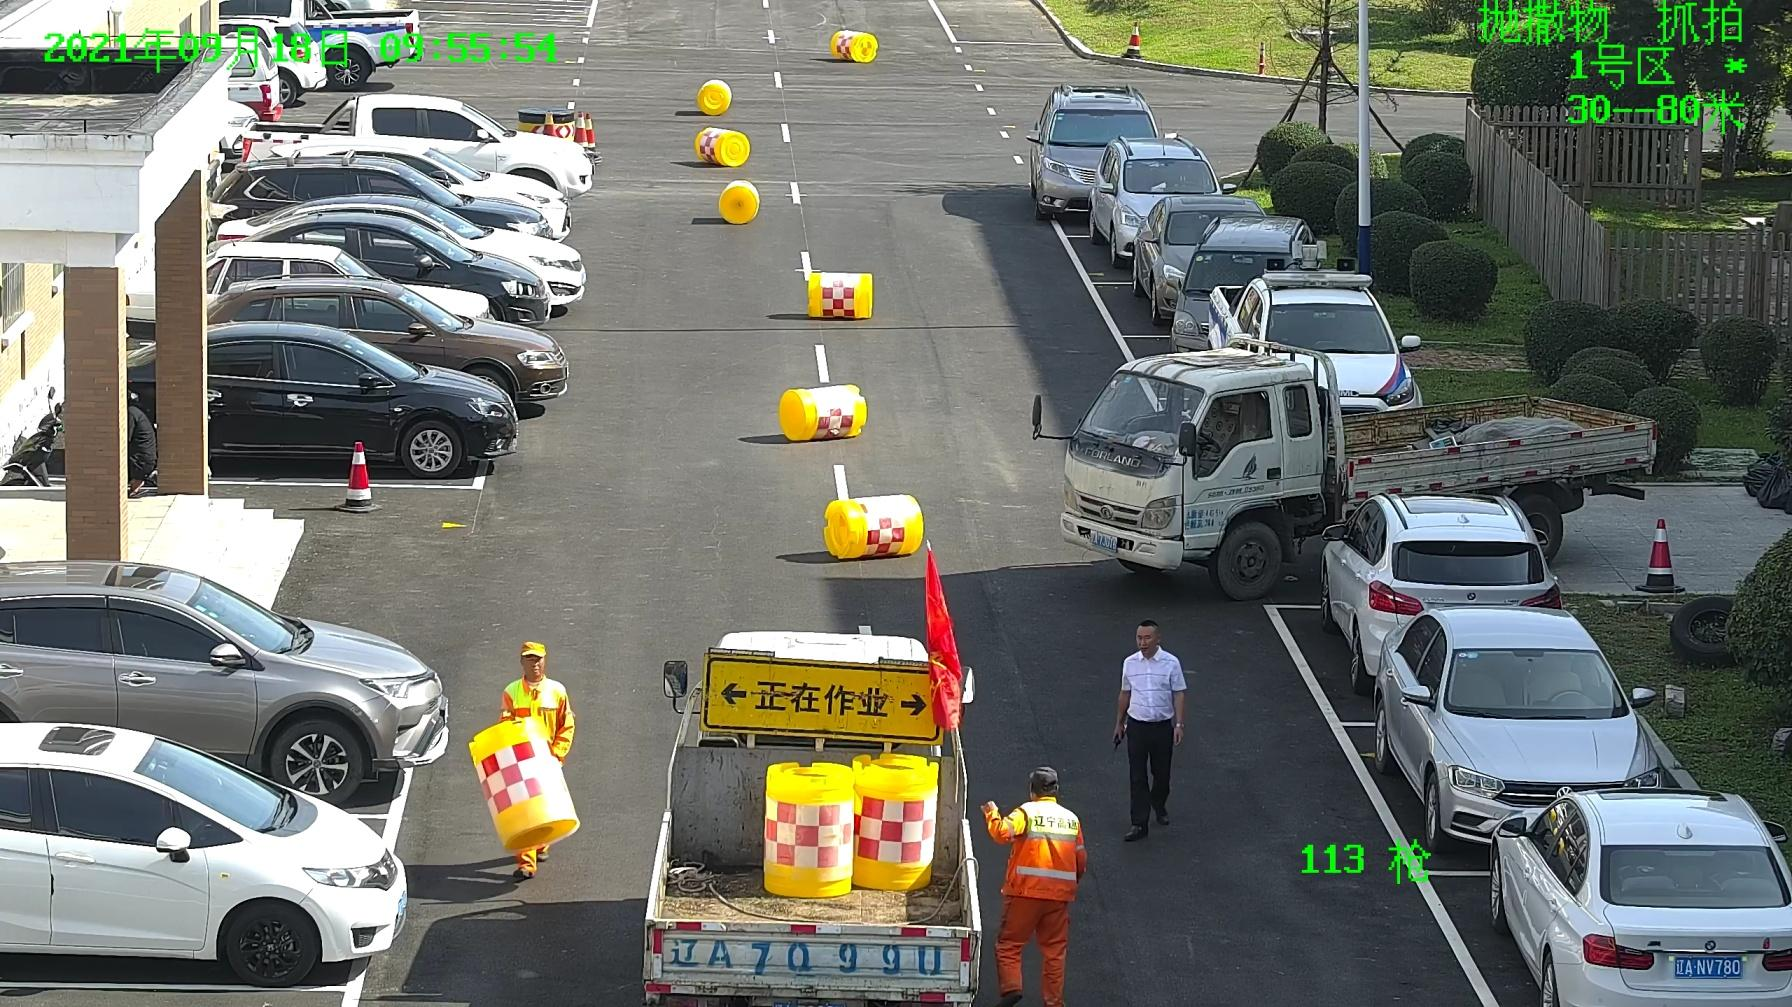cone_barrel: (462, 716, 580, 857), (762, 760, 853, 900), (857, 753, 940, 893), (818, 492, 926, 561), (777, 384, 866, 443), (802, 268, 875, 324), (689, 126, 752, 167), (718, 176, 763, 227), (830, 28, 879, 63), (697, 78, 731, 117)
